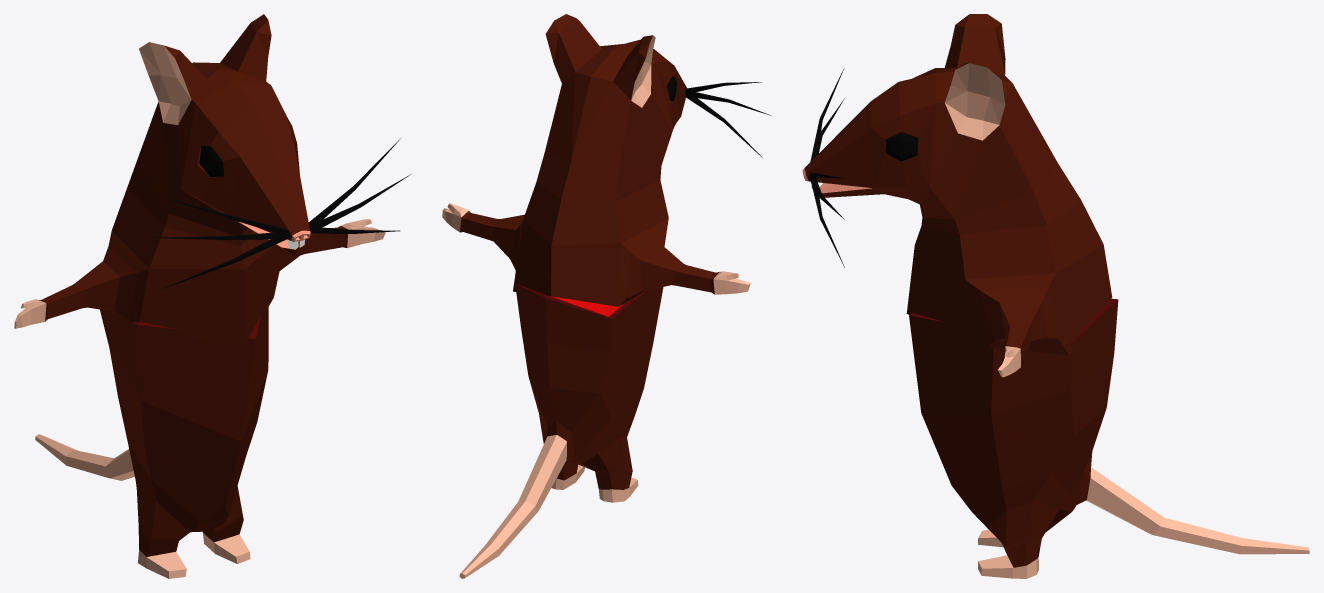
Rendered from MouseButHesDed.fbx.
3 renders of one model, left to right at view 1: azimuth 30°, elevation 25°; view 2: azimuth 150°, elevation 25°; view 3: azimuth 270°, elevation 25°, orthographic. The views are drawn at different scales.
Parts seen in each view (by area): view 1: UpperBody, LowerBody; view 2: UpperBody, LowerBody; view 3: UpperBody, LowerBody.
Part boxes in pixels (bbox=[...]): UpperBody: bbox=[14, 14, 410, 346]; LowerBody: bbox=[35, 307, 268, 578]; UpperBody: bbox=[442, 14, 770, 306]; LowerBody: bbox=[459, 283, 663, 578]; UpperBody: bbox=[802, 14, 1112, 377]; LowerBody: bbox=[909, 298, 1309, 578].
Bounding box in the file's own units: 1.62 × 2.28 × 2.02.
